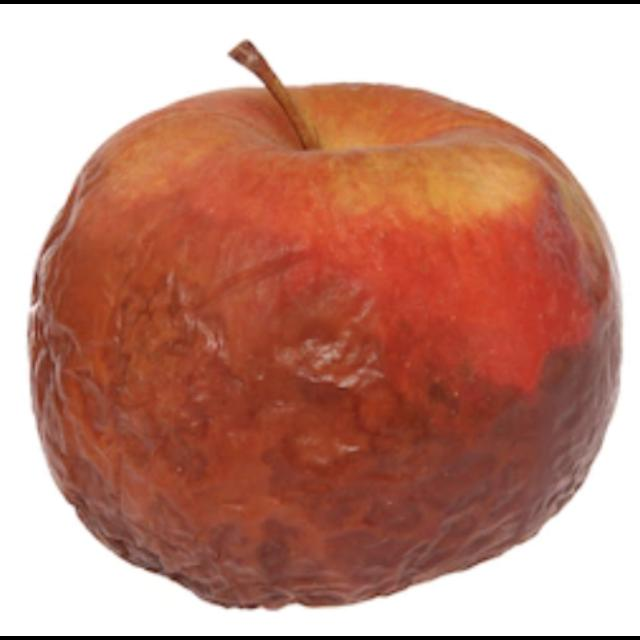Apel Tidak Segar: (15, 77, 617, 621)
